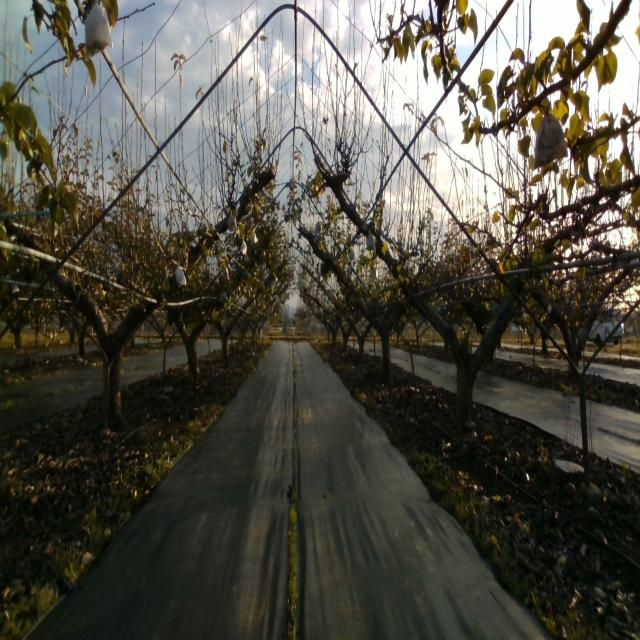pearbags: (532, 101, 568, 170), (85, 2, 112, 59), (364, 229, 376, 256), (175, 261, 187, 288)
